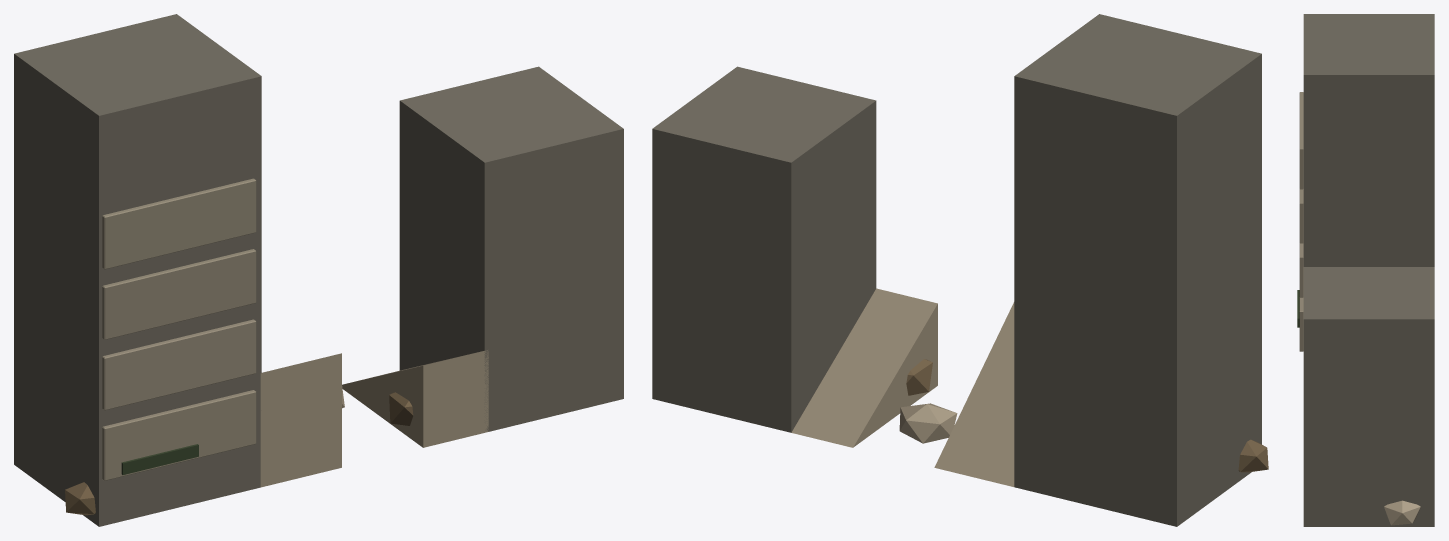
3 renders of one model, left to right at view 1: azimuth 30°, elevation 25°; view 2: azimuth 150°, elevation 25°; view 3: azimuth 270°, elevation 25°, orthographic. The views are drawn at different scales.
Parts seen in each view (by area): view 1: WK_Stone_A08_RuinWall_Breached4m_LOD0; view 2: WK_Stone_A08_RuinWall_Breached4m_LOD0; view 3: WK_Stone_A08_RuinWall_Breached4m_LOD0.
Boxes of the visible parts, x1,y1,x2,y2 form: WK_Stone_A08_RuinWall_Breached4m_LOD0: (14, 14, 623, 526); WK_Stone_A08_RuinWall_Breached4m_LOD0: (652, 14, 1268, 526); WK_Stone_A08_RuinWall_Breached4m_LOD0: (1297, 14, 1434, 526).
Size of the model in its own units: 4 by 2.8 by 1.1.
